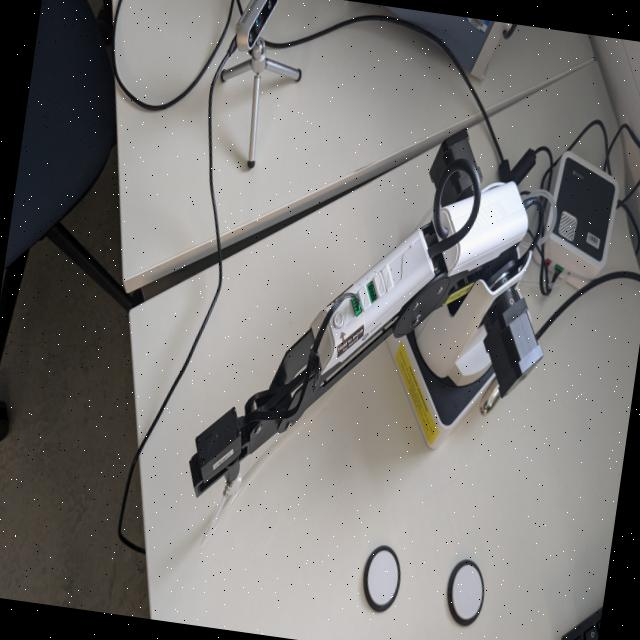Robot-end-effector-HF8z: (182, 396, 254, 508)
